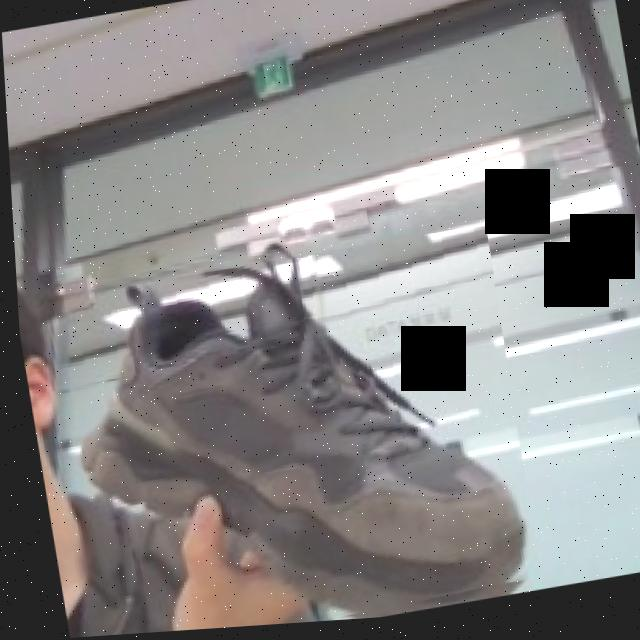shoe: (51, 228, 539, 638)
